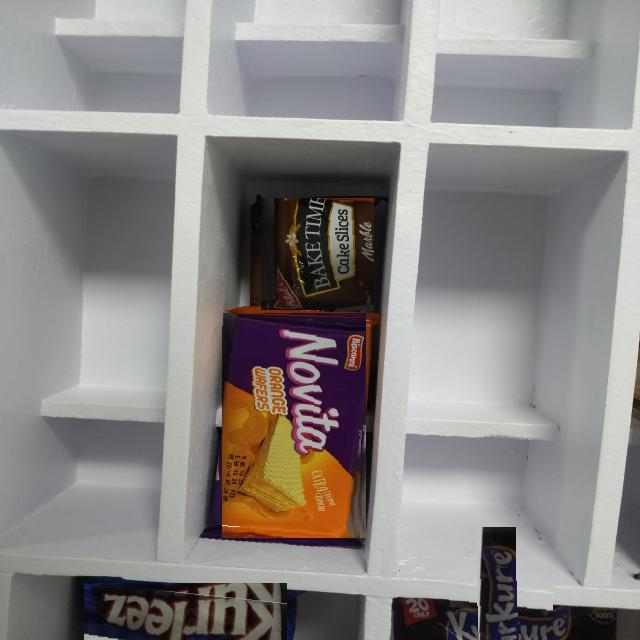Plastic: (222, 312, 366, 538), (260, 197, 374, 310), (83, 582, 287, 640), (438, 563, 553, 640)
